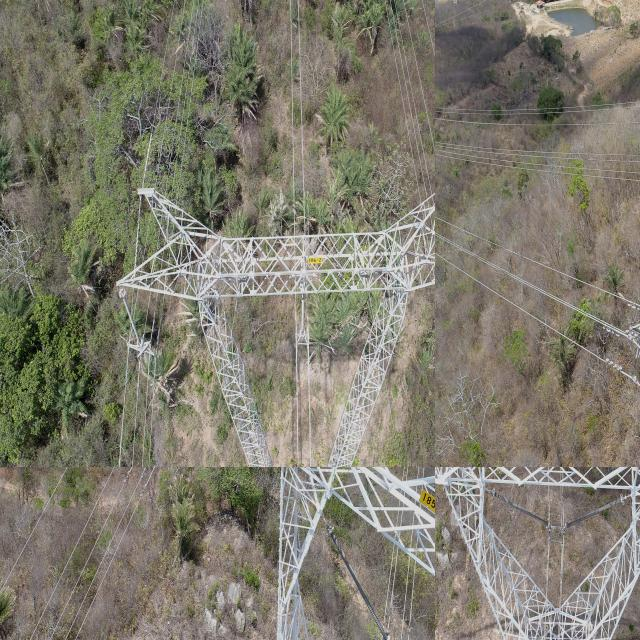杆塔: (105, 168, 435, 467), (155, 467, 435, 640), (435, 467, 640, 640)
正常电缆: (435, 246, 640, 404), (435, 228, 625, 339), (435, 210, 610, 301), (435, 140, 634, 175), (435, 152, 636, 182), (435, 100, 640, 116), (435, 115, 640, 129)
正常绝缘子: (324, 520, 392, 640), (490, 486, 550, 531), (565, 490, 626, 532), (118, 287, 145, 351), (300, 281, 305, 338)
